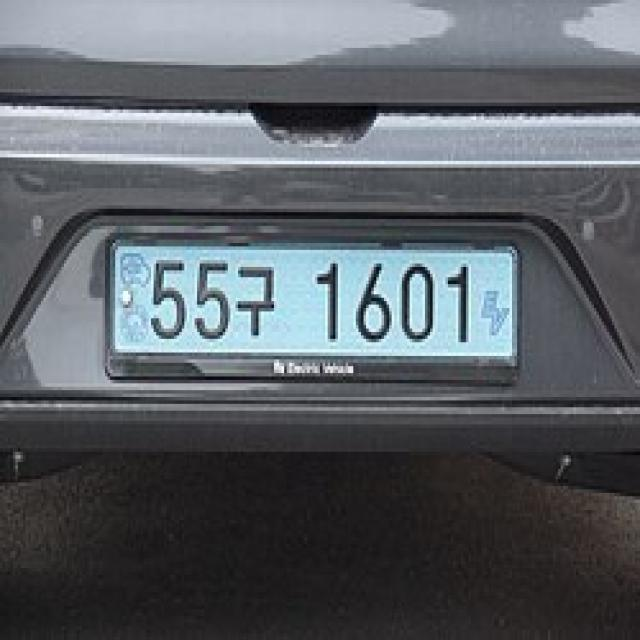car: (89, 201, 537, 423)
carev: (470, 249, 514, 359), (118, 249, 152, 352)
